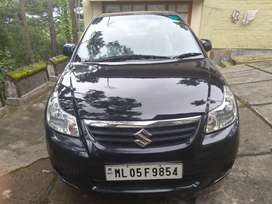ML05F9854: (105, 163, 182, 181)
